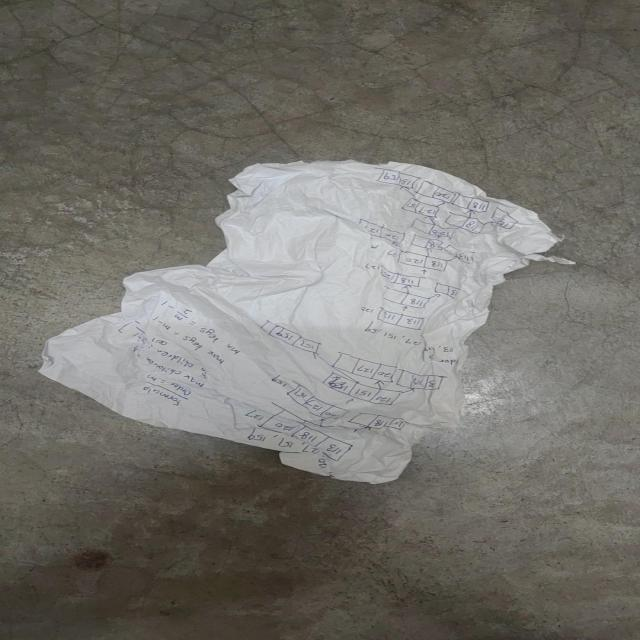paper: (31, 155, 566, 488)
